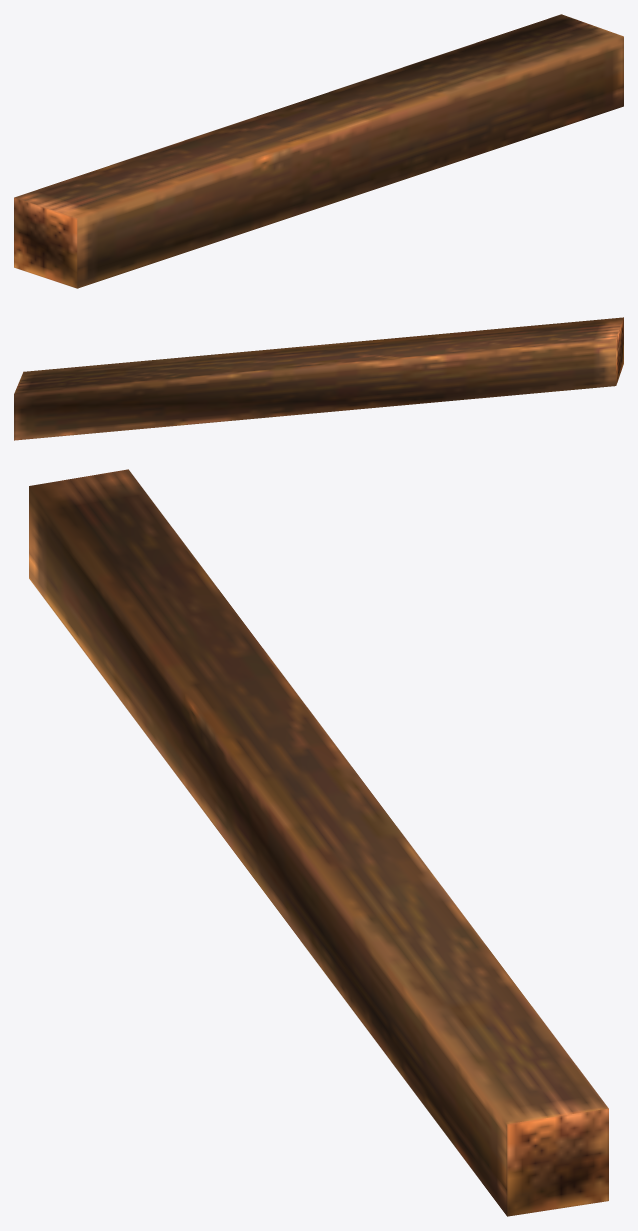
The model's file is SWORDLIGHT20_JAILBRACE53.fbx.
3 views of the same model, one above another, from view 1: azimuth 30°, elevation 25°; view 2: azimuth 150°, elevation 25°; view 3: azimuth 270°, elevation 25° (orthographic). The views are drawn at different scales.
Parts seen in each view (by area): view 1: SWORDLIGHT20_JAILBRACE53; view 2: SWORDLIGHT20_JAILBRACE53; view 3: SWORDLIGHT20_JAILBRACE53.
Boxes of the visible parts, bbox=[...] form: SWORDLIGHT20_JAILBRACE53: bbox=[14, 14, 623, 288]; SWORDLIGHT20_JAILBRACE53: bbox=[14, 317, 623, 440]; SWORDLIGHT20_JAILBRACE53: bbox=[29, 469, 608, 1216].
Bounding box in the file's own units: 45061 × 11286 × 22706.
Materials: 1 (1 with a texture image).
